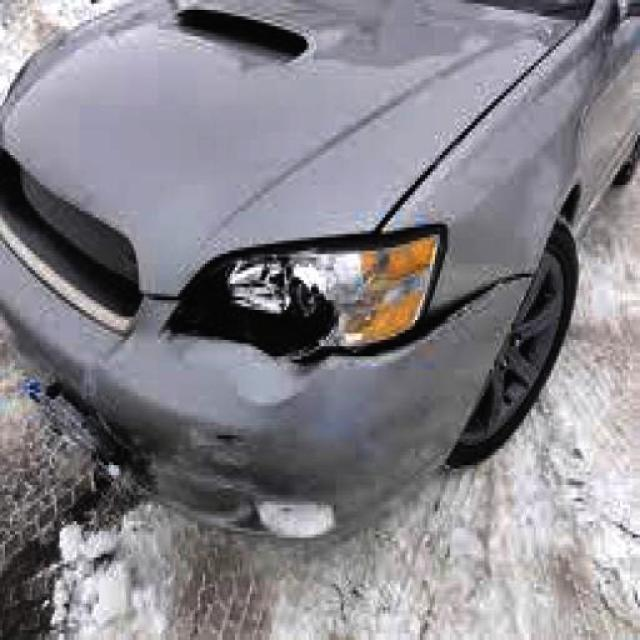car damage: (144, 246, 536, 401), (140, 424, 269, 525)
